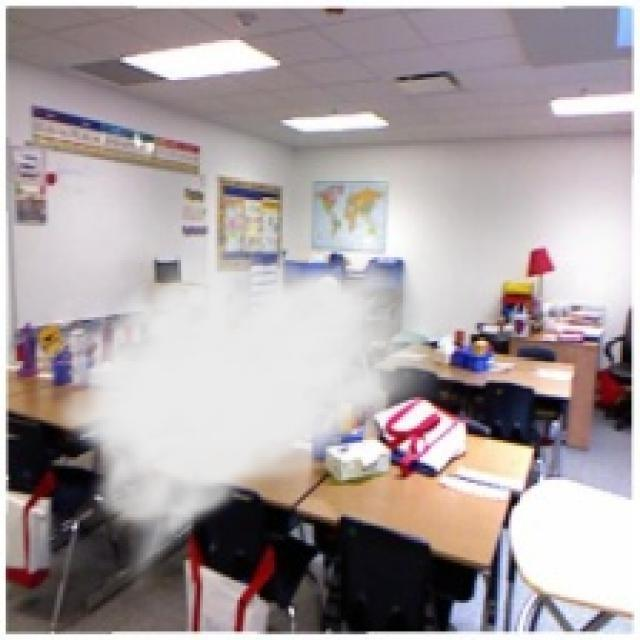Smoke: (42, 232, 458, 597)
